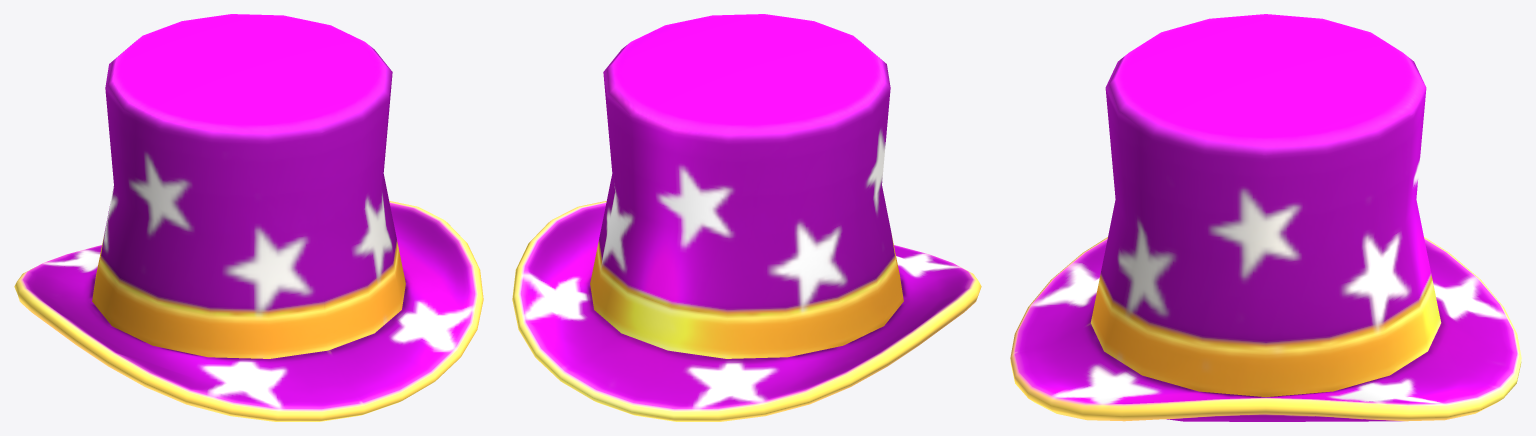
File: obj_toy06.gltf
The picture shows the model from 3 angles, left to right: view 1: azimuth 30°, elevation 25°; view 2: azimuth 150°, elevation 25°; view 3: azimuth 270°, elevation 25°; orthographic projection. The views are drawn at different scales.
Visible parts, largest first — view 1: obj_toy06; view 2: obj_toy06; view 3: obj_toy06.
Part boxes in pixels (bbox=[...]): obj_toy06: bbox=[14, 14, 483, 421]; obj_toy06: bbox=[512, 14, 981, 421]; obj_toy06: bbox=[1010, 14, 1521, 421].
Bounding box in the file's own units: 0.5 × 0.317 × 0.5032.
Materials: 1 (1 with a texture image).
